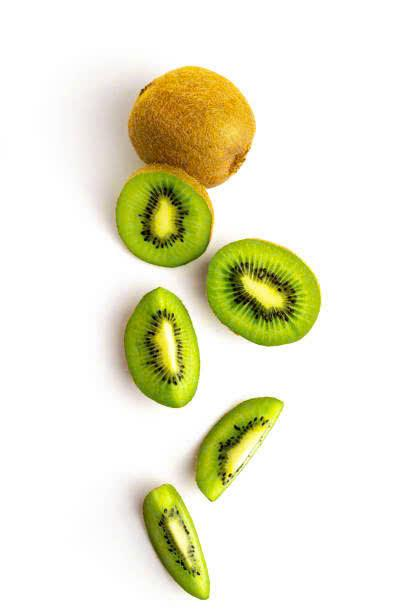kiwi: (124, 59, 259, 186), (208, 236, 327, 352), (109, 164, 214, 275), (121, 280, 205, 402), (192, 398, 287, 504), (137, 483, 223, 590)
